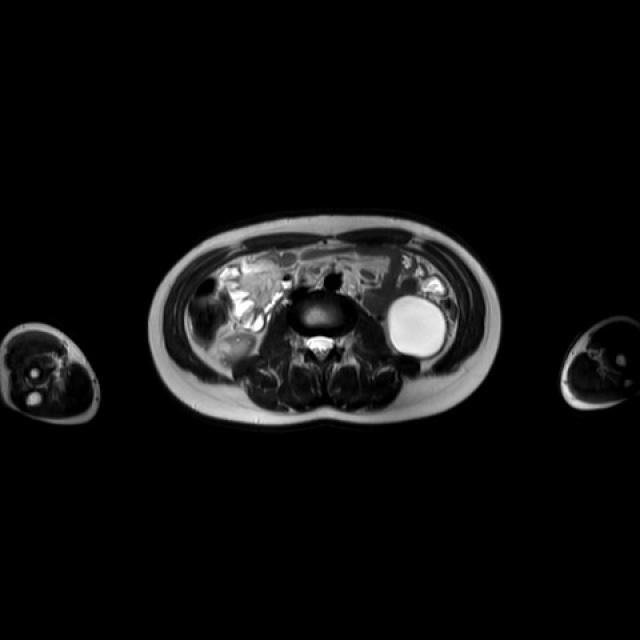sag: (218, 330, 260, 362)
sol: (388, 293, 449, 357)
